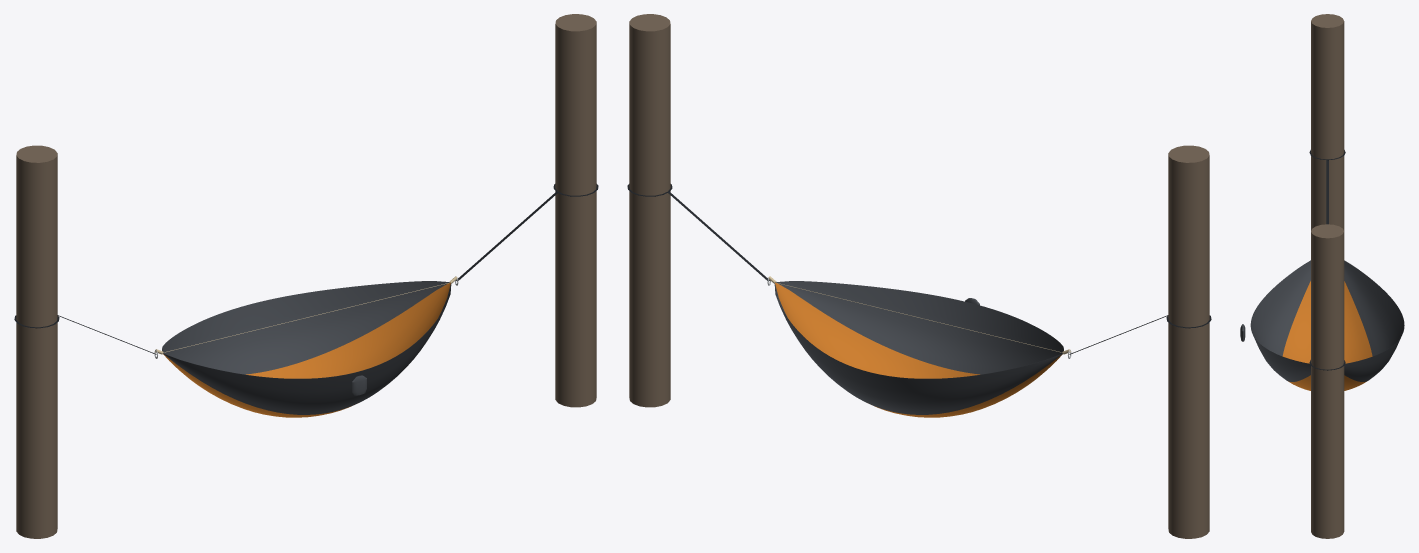
File: hammock_camping.glb
3 views of the same model, side by side, from view 1: azimuth 30°, elevation 25°; view 2: azimuth 150°, elevation 25°; view 3: azimuth 270°, elevation 25° (orthographic). The views are drawn at different scales.
Parts seen in each view (by area): view 1: hammock_camping, bed_hammock_camping; view 2: hammock_camping, bed_hammock_camping; view 3: hammock_camping, bed_hammock_camping.
Boxes of the visible parts, x1=… form: hammock_camping: x1=14, y1=14, x2=598, y2=538; bed_hammock_camping: x1=57, y1=191, x2=557, y2=417; hammock_camping: x1=627, y1=14, x2=1211, y2=538; bed_hammock_camping: x1=668, y1=192, x2=1167, y2=417; hammock_camping: x1=1309, y1=14, x2=1345, y2=538; bed_hammock_camping: x1=1240, y1=160, x2=1404, y2=390.
Size of the model in its own units: 4.83 by 3 by 1.48.
